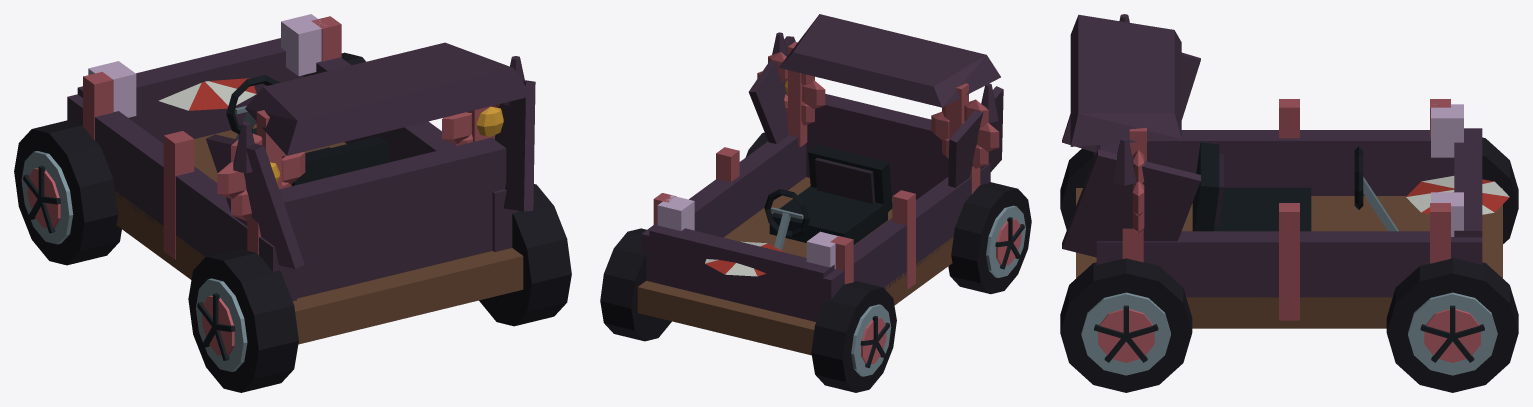
Rendered from kart.glb.
3 renders of one model, left to right at view 1: azimuth 30°, elevation 25°; view 2: azimuth 150°, elevation 25°; view 3: azimuth 270°, elevation 25°, orthographic. The views are drawn at different scales.
Parts seen in each view (by area): view 1: identity-carriage-carriage-timber-coach, wheel-rear-left, wheel-front-left, identity-carriage-motif-bat-fins, wheel-rear-right, identity-carriage-motif-flowers, identity-carriage-driver-cockpit, identity-carriage-motif-umbrella; view 2: identity-carriage-carriage-timber-coach, identity-carriage-driver-cockpit, wheel-front-left, wheel-rear-left, identity-carriage-motif-bat-fins, wheel-front-right, identity-carriage-motif-flowers, identity-carriage-motif-umbrella; view 3: identity-carriage-carriage-timber-coach, wheel-front-right, wheel-rear-right, identity-carriage-motif-bat-fins, identity-carriage-driver-cockpit, wheel-front-left, identity-carriage-motif-umbrella, wheel-rear-left, identity-carriage-motif-flowers.
Boxes of the visible parts, x1=… form: identity-carriage-carriage-timber-coach: x1=67, y1=14, x2=532, y2=344; wheel-rear-left: x1=188, y1=248, x2=298, y2=392; wheel-front-left: x1=14, y1=120, x2=121, y2=265; identity-carriage-motif-bat-fins: x1=206, y1=56, x2=535, y2=268; wheel-rear-right: x1=479, y1=184, x2=571, y2=326; identity-carriage-motif-flowers: x1=217, y1=104, x2=503, y2=221; identity-carriage-driver-cockpit: x1=226, y1=75, x2=388, y2=185; identity-carriage-motif-umbrella: x1=158, y1=78, x2=256, y2=110; identity-carriage-carriage-timber-coach: x1=637, y1=14, x2=1000, y2=355; identity-carriage-driver-cockpit: x1=764, y1=145, x2=892, y2=250; wheel-front-left: x1=811, y1=281, x2=896, y2=392; wheel-rear-left: x1=948, y1=182, x2=1031, y2=294; identity-carriage-motif-bat-fins: x1=748, y1=32, x2=1003, y2=187; wheel-front-right: x1=600, y1=228, x2=671, y2=341; identity-carriage-motif-flowers: x1=757, y1=52, x2=999, y2=168; identity-carriage-motif-umbrella: x1=705, y1=241, x2=784, y2=276; identity-carriage-carriage-timber-coach: x1=1070, y1=14, x2=1502, y2=328; wheel-front-right: x1=1386, y1=258, x2=1518, y2=392; wheel-rear-right: x1=1060, y1=258, x2=1192, y2=392; identity-carriage-motif-bat-fins: x1=1062, y1=14, x2=1200, y2=257; identity-carriage-driver-cockpit: x1=1192, y1=142, x2=1398, y2=231; wheel-front-left: x1=1482, y1=137, x2=1518, y2=243; identity-carriage-motif-umbrella: x1=1406, y1=176, x2=1509, y2=214; wheel-rear-left: x1=1060, y1=148, x2=1096, y2=229; identity-carriage-motif-flowers: x1=1132, y1=150, x2=1144, y2=233.
Bounding box in the file's own units: 2.07 × 1.63 × 2.64.
